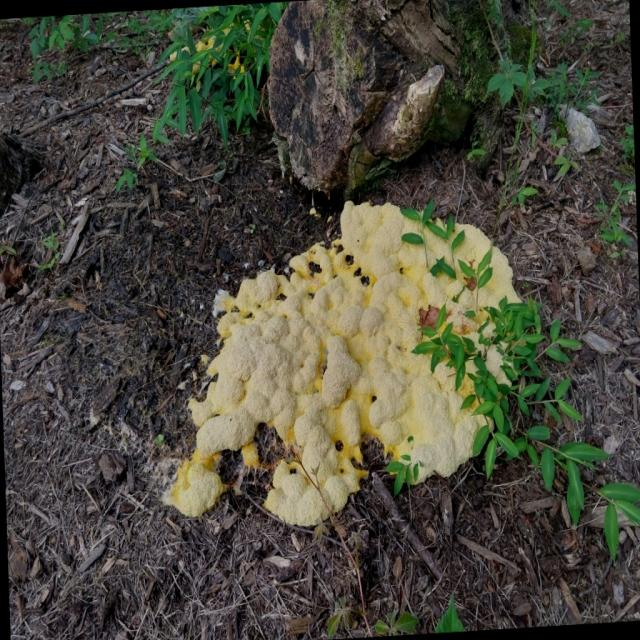Dog_vomit_slime_mold: (129, 207, 562, 529)
